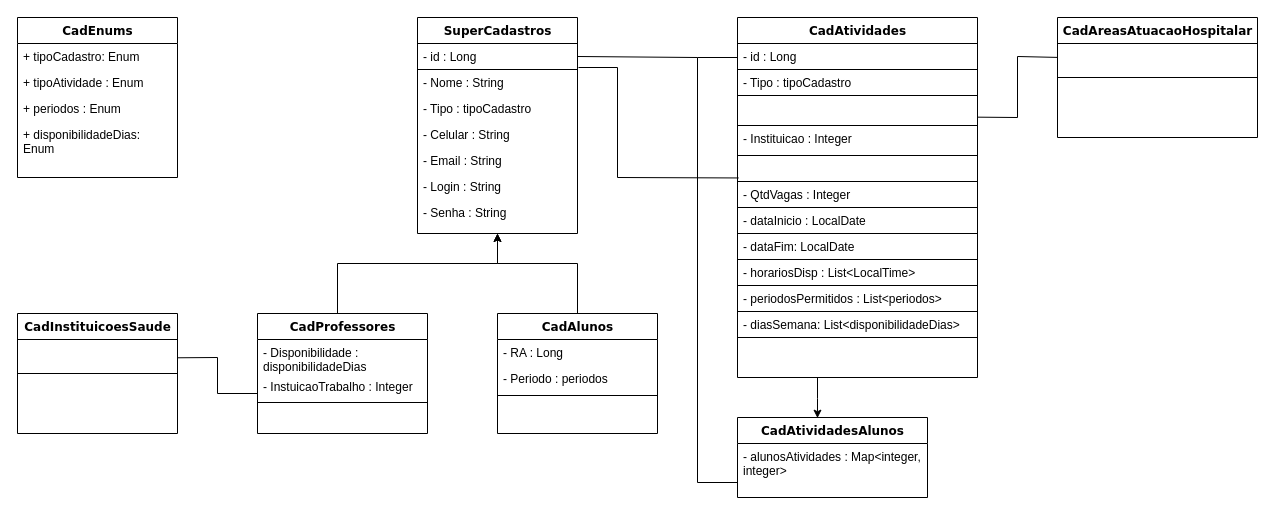
Some shapes in this 1275 by 515 pixel diagram are drawn without their labels. The shapes that lost their labels are listed below. From the top down, each one's centre as x and y in pixels, then its label:
At [1157,60]: "- areasAtuacao : Map<integer, String>".
At [857,110]: "- Area : Integer".
At [857,168]: "- professor: Integer".
At [97,356]: "- instituicoes : Map<integer, String>".
